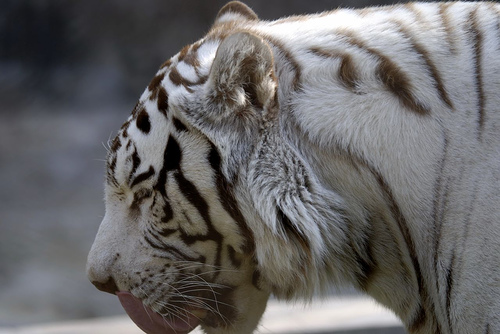Tigre: (77, 11, 497, 331)
